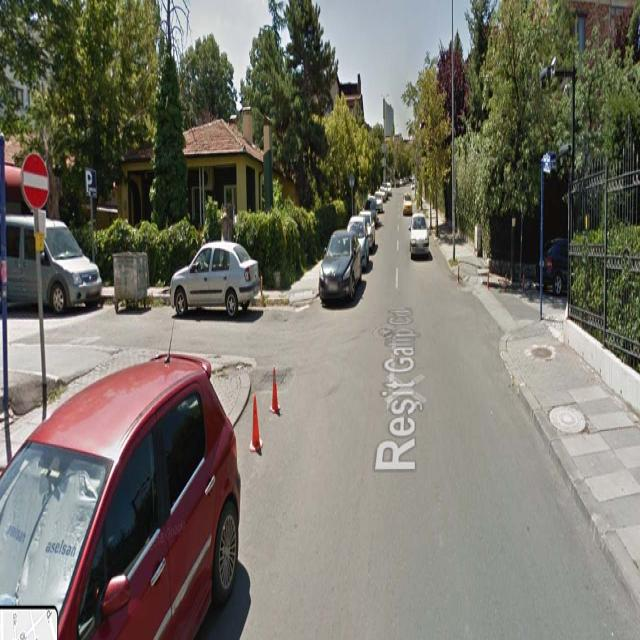girisyok: (22, 148, 50, 210)
park: (84, 168, 98, 194)
